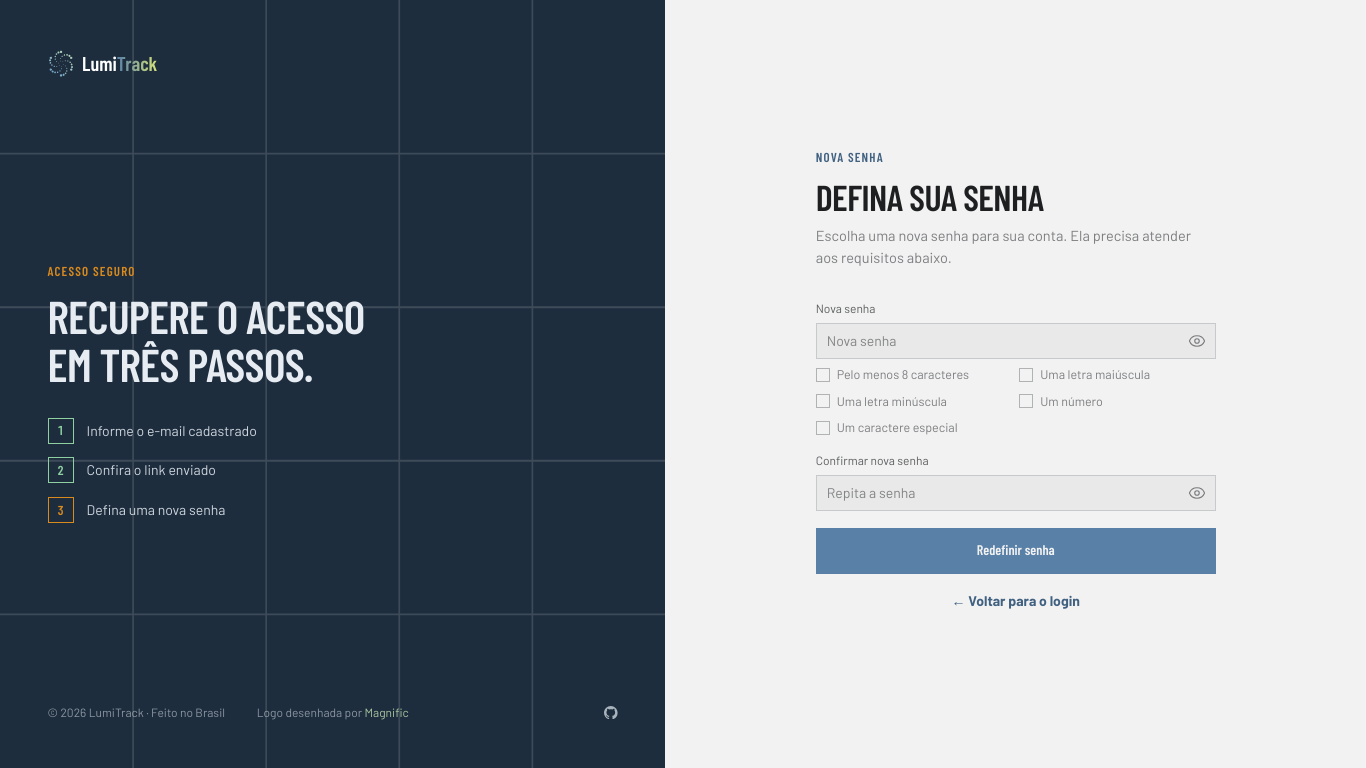
Test case: ResetPasswordPage — com token › exibe a mensagem de erro quando o token é inválido ou expirado
The image size is (1366, 768).
In the password field labelled "Nova senha": (1016, 340) [816,322,1216,358], type "Senha@123"
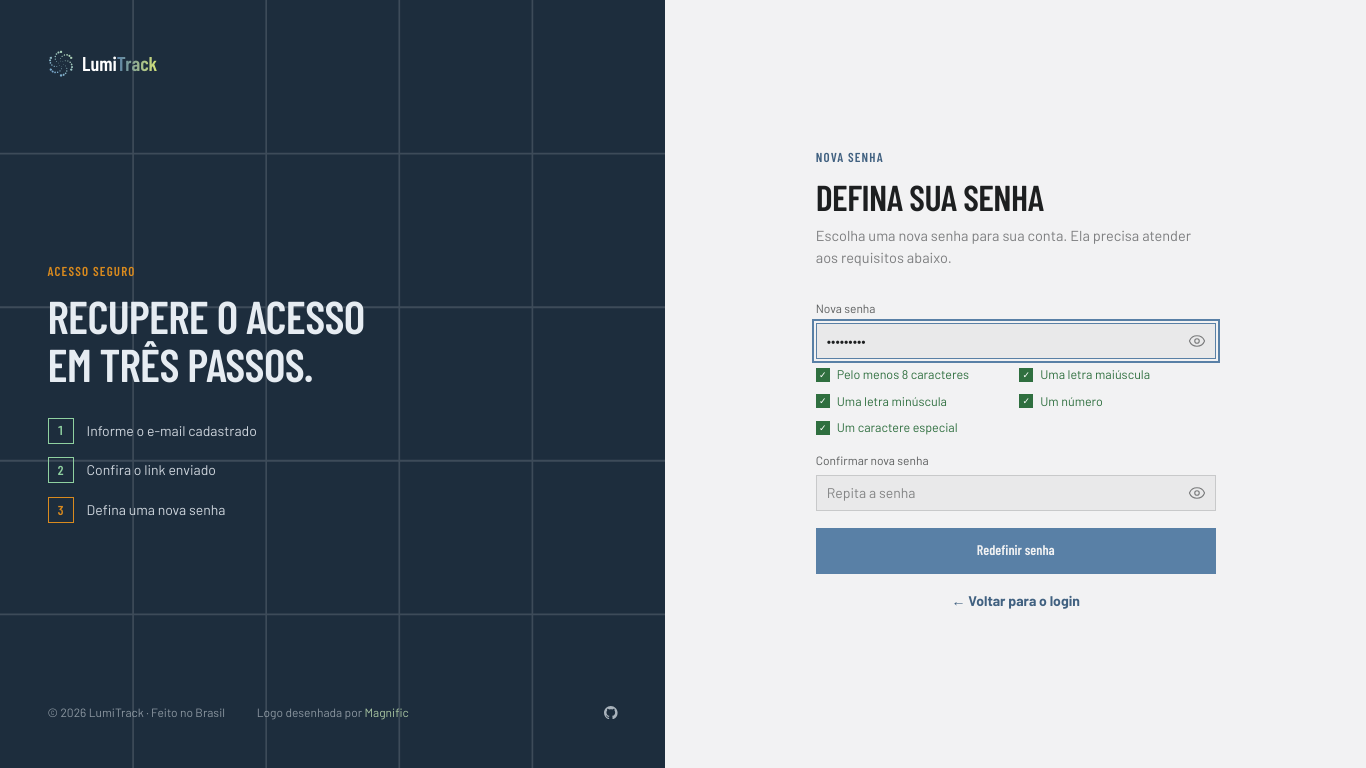
In the password field labelled "Confirmar nova senha": (1016, 493) [816,475,1216,511], type "Senha@123"
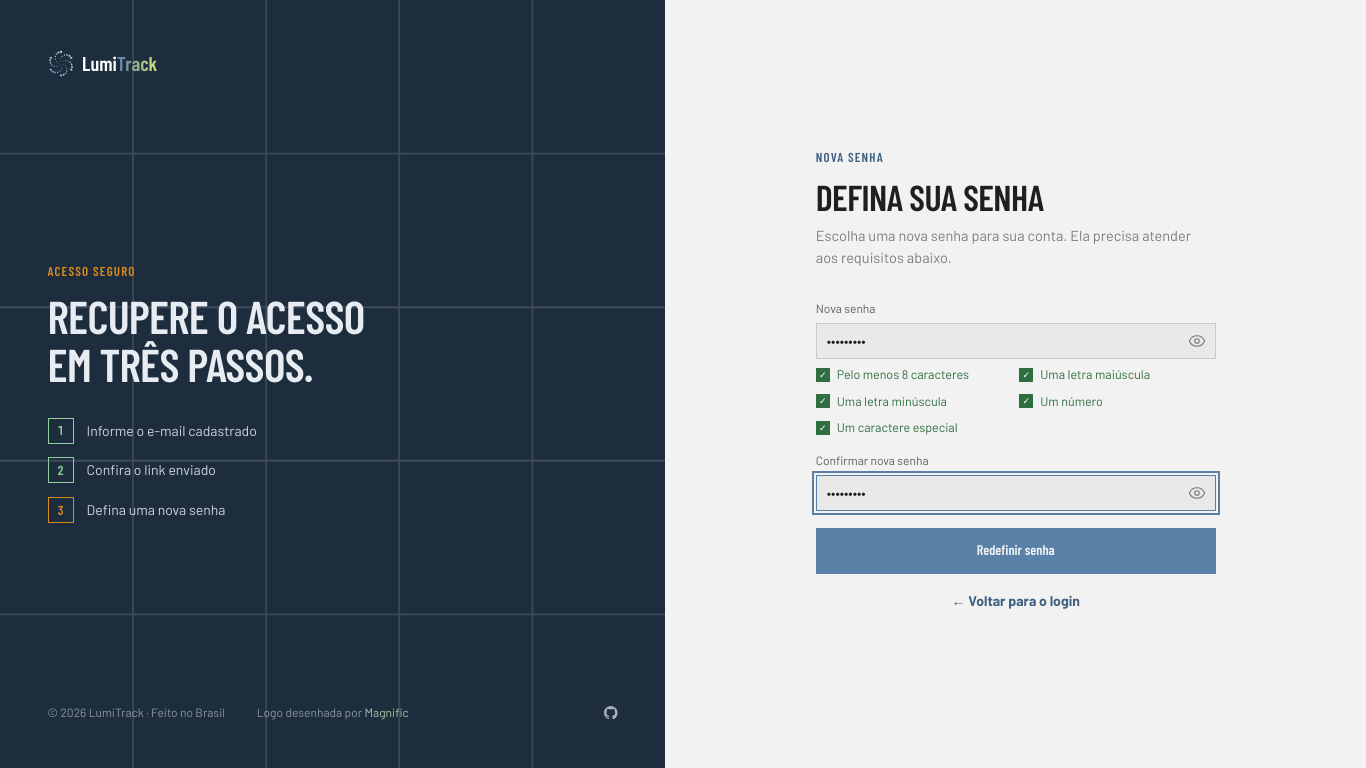
Click the button "Redefinir senha": click(1016, 551) [816,528,1216,574]
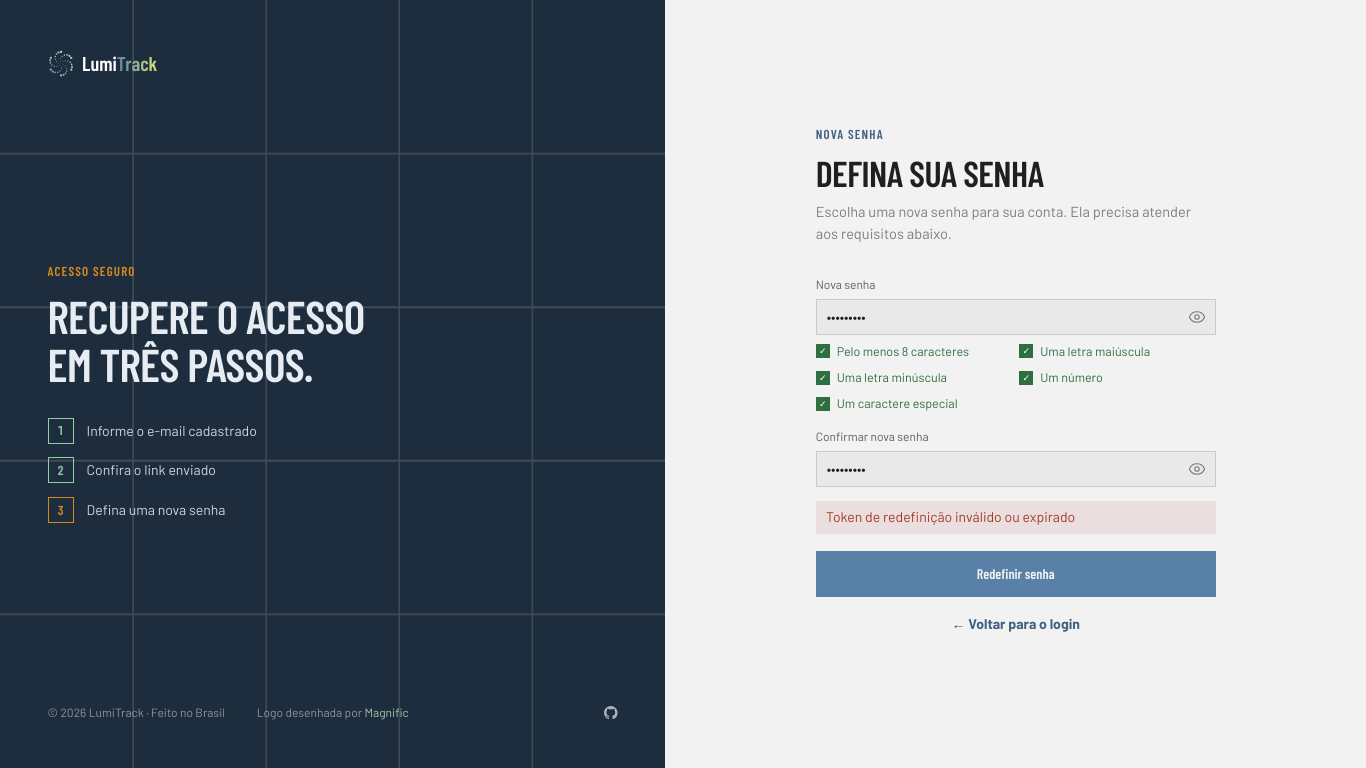
Check: the text "Token de redefinição inválido ou expirado" is shown, box [816,501,1216,534]
